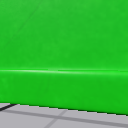green_basket: (1, 1, 128, 116)
